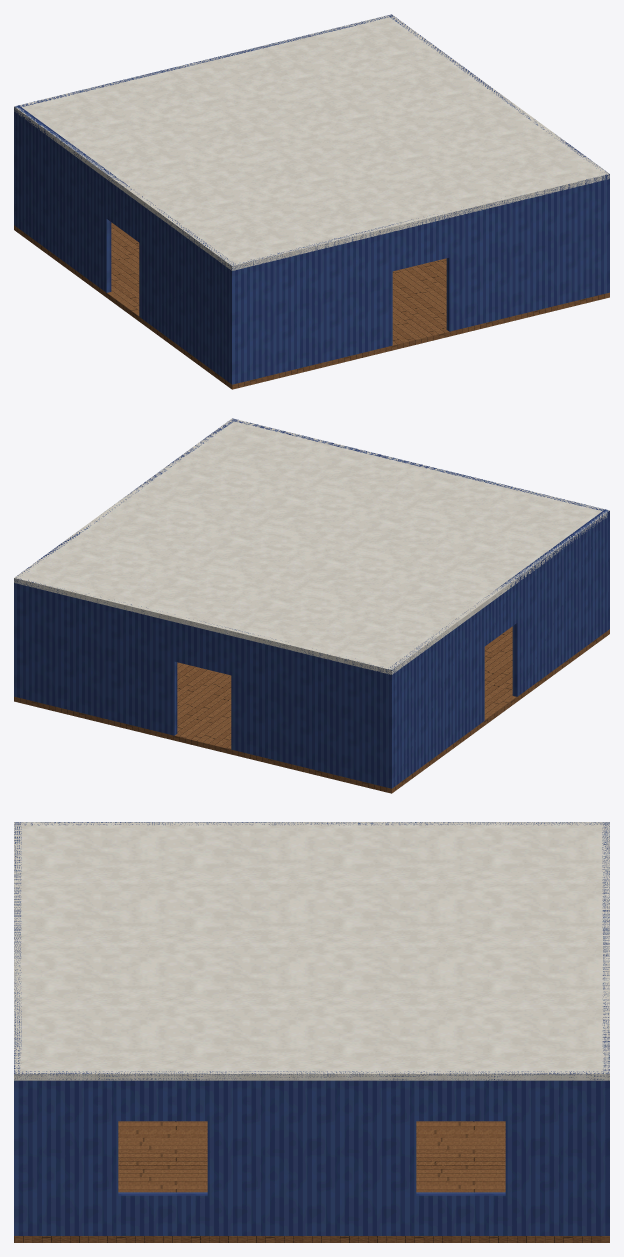
The model's file is room-dining.obj.
3 views of the same model, one above another, from view 1: azimuth 30°, elevation 25°; view 2: azimuth 150°, elevation 25°; view 3: azimuth 270°, elevation 25° (orthographic). The views are drawn at different scales.
Parts seen in each view (by area): view 1: ceiling, wall, floor; view 2: ceiling, wall, floor; view 3: ceiling, wall, floor.
Part boxes in pixels (box(x1,y1,x2,y2)): ceiling: box(14, 14, 609, 270); wall: box(14, 14, 609, 384); floor: box(14, 222, 609, 389); ceiling: box(14, 418, 609, 674); wall: box(14, 418, 609, 788); floor: box(14, 626, 609, 793); ceiling: box(14, 822, 609, 1080); wall: box(14, 822, 609, 1235); floor: box(14, 1121, 609, 1242).
Size of the model in its own units: 16 by 5 by 16.
3 materials, 3 textured.
